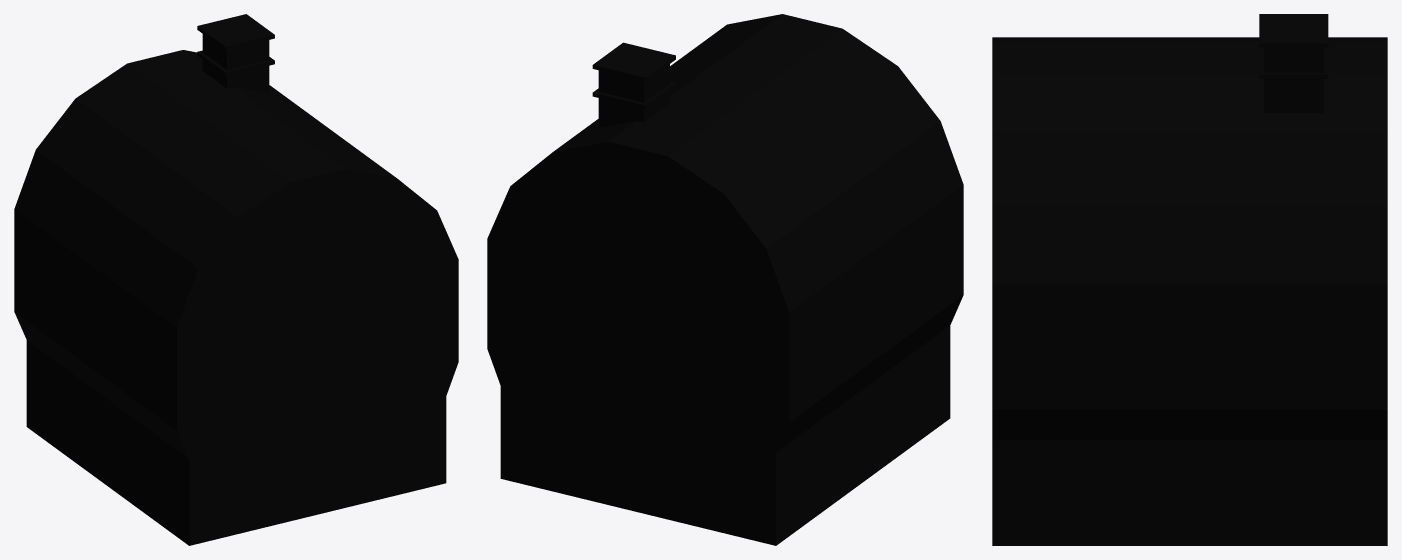
3 renders of one model, left to right at view 1: azimuth 30°, elevation 25°; view 2: azimuth 150°, elevation 25°; view 3: azimuth 270°, elevation 25°, orthographic. The views are drawn at different scales.
Parts seen in each view (by area): view 1: hexadecagon, cube; view 2: hexadecagon, cube; view 3: hexadecagon, cube.
Part boxes in pixels (x1,y1,x2,y2): hexadecagon: (14, 50, 458, 520); cube: (26, 14, 446, 545); hexadecagon: (487, 14, 963, 519); cube: (500, 42, 950, 545); hexadecagon: (992, 37, 1387, 440); cube: (992, 14, 1387, 545).
Size of the model in its own units: 0.4219 by 0.5485 by 0.4219.
